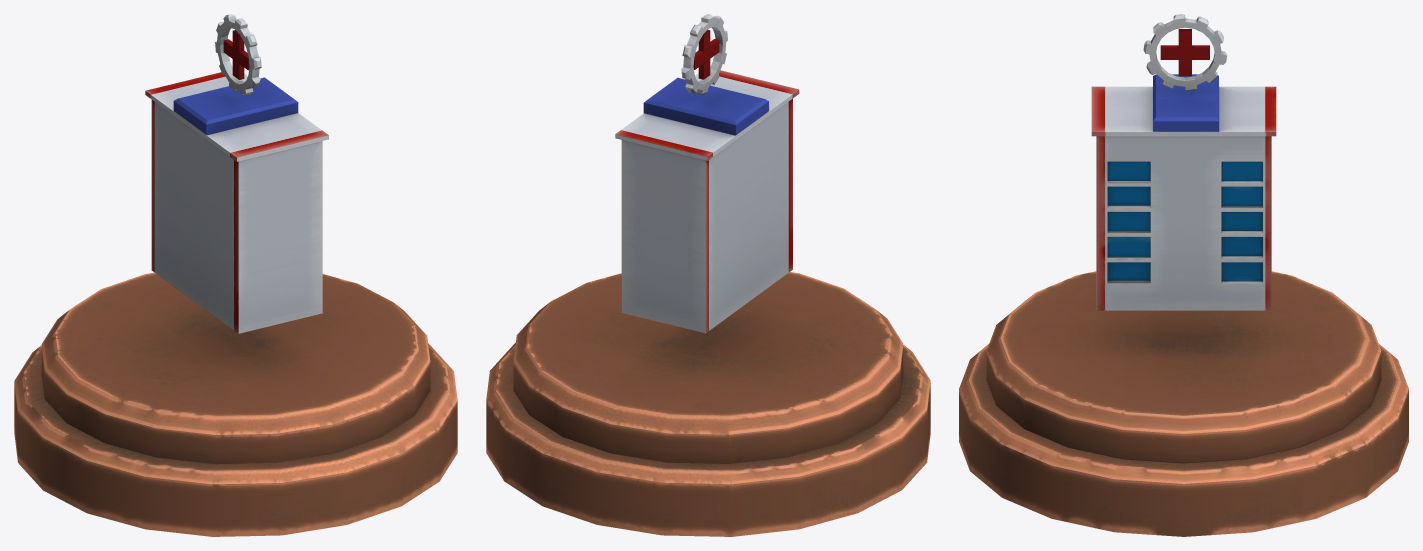
The model's file is HOSPITALBRONZE.fbx.
3 views of the same model, side by side, from view 1: azimuth 30°, elevation 25°; view 2: azimuth 150°, elevation 25°; view 3: azimuth 270°, elevation 25° (orthographic).
Visible parts, largest first — view 1: polySurface11, polySurface12; view 2: polySurface11, polySurface12; view 3: polySurface11, polySurface12.
Boxes of the visible parts, box(x1,y1,x2,y2) form: polySurface11: box(14, 272, 457, 536); polySurface12: box(145, 14, 328, 333); polySurface11: box(486, 272, 930, 536); polySurface12: box(615, 14, 799, 333); polySurface11: box(959, 271, 1408, 536); polySurface12: box(1091, 14, 1276, 310).
Size of the model in its own units: 0.4773 by 0.5017 by 0.4773.
Materials: 1 (1 with a texture image).
